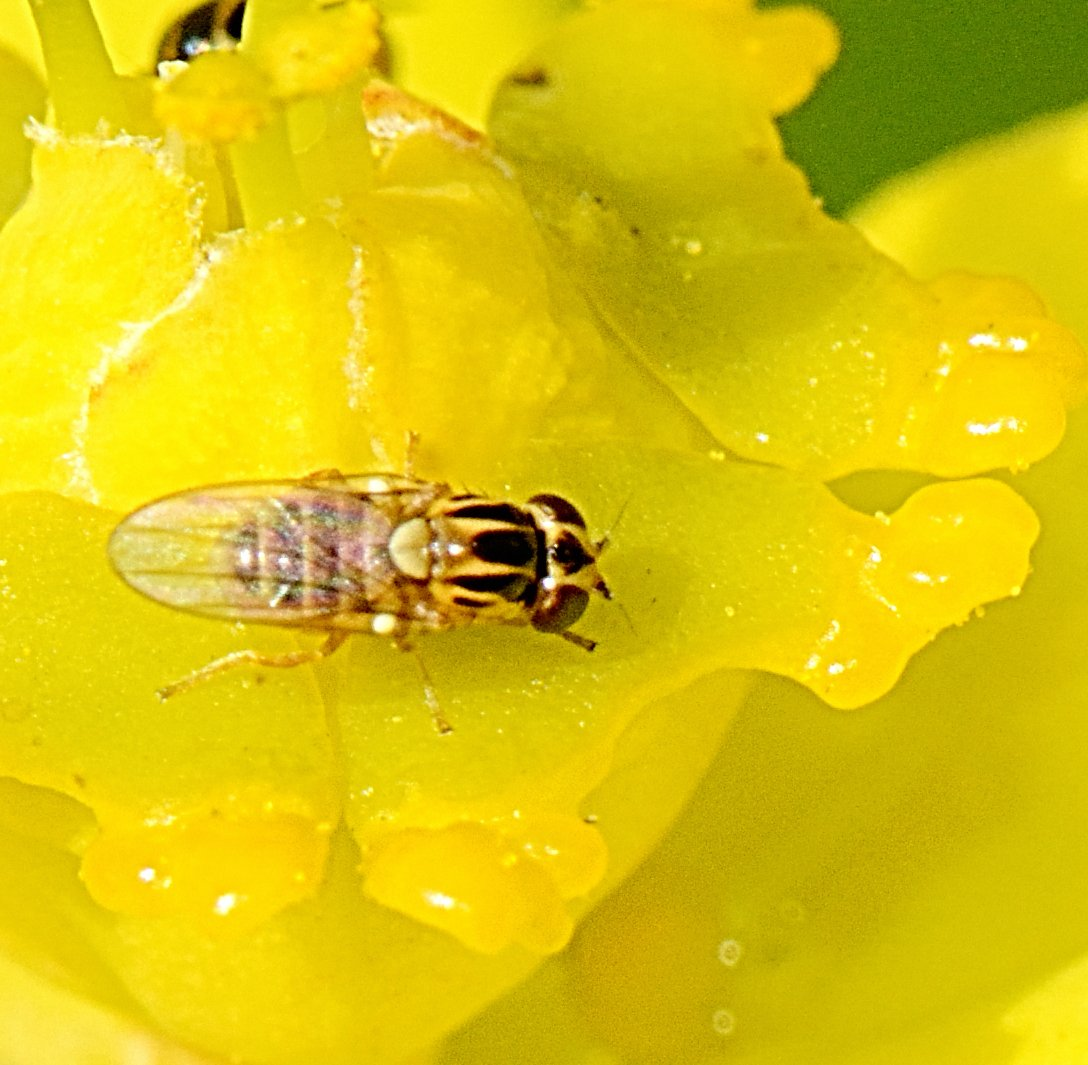Chloropidae: (103, 479, 634, 740)
